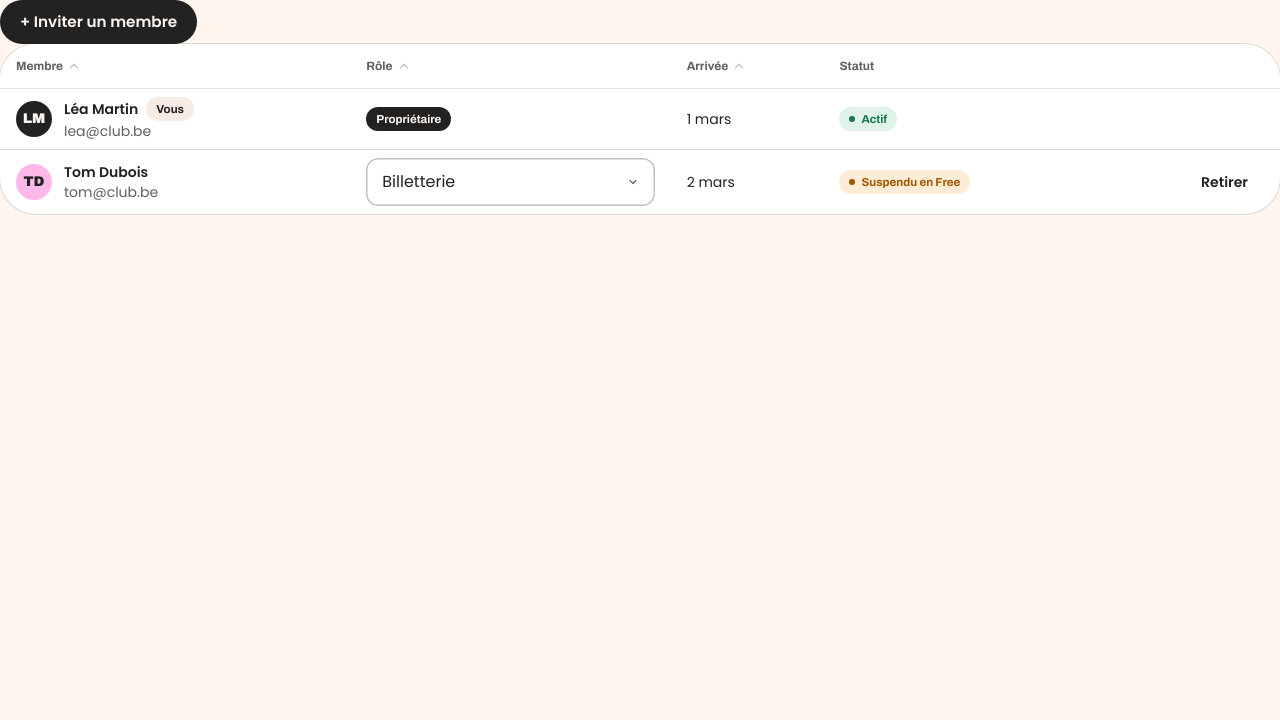
Test: codes promo et équipe › membres : initiales, rôle modifiable sur place ou pastille ; inviter ouvre la fenêtre
Expected: the row "LM Léa Martin Vous lea@club.be Propriétaire 1 mars Actif" is shown, [0,88,1279,150]
Expected: the dropdown is shown, [366,158,655,206]
Click the button "+ Inviter un membre".
click(99, 22)  # box [0,0,197,44]
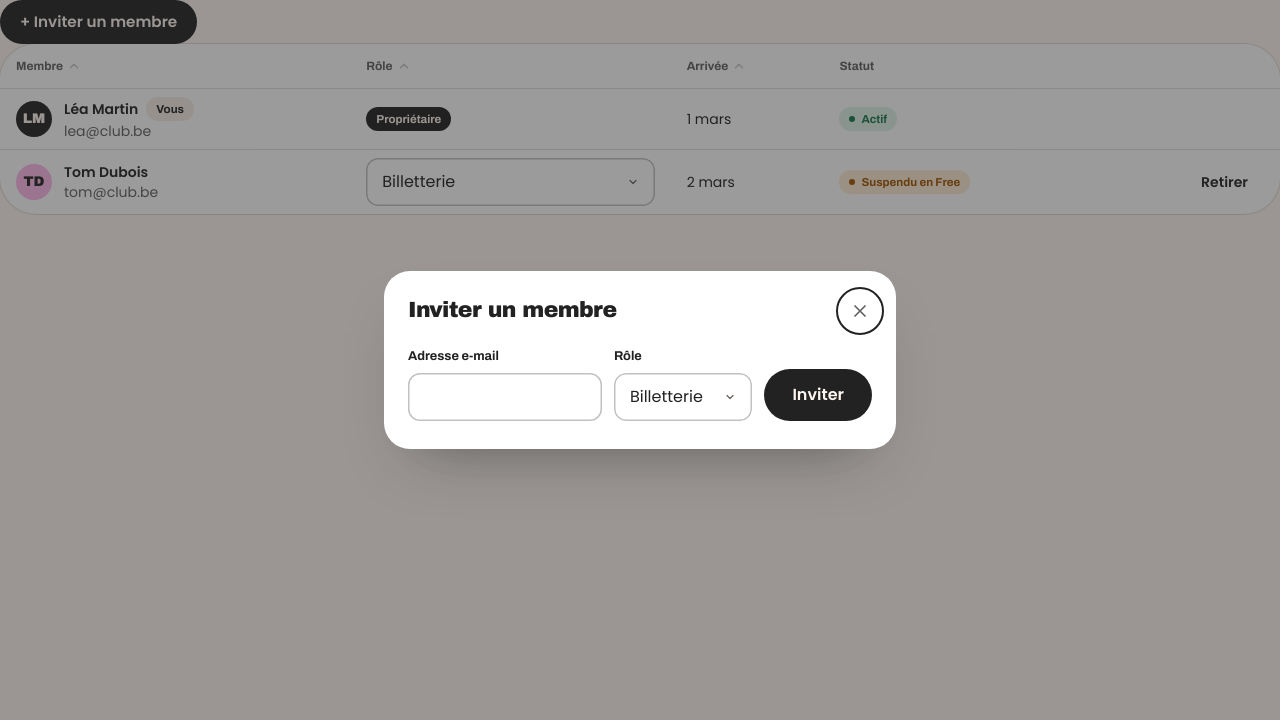
Expected: the dialog "Inviter un membre" is shown, [384,271,896,449]
